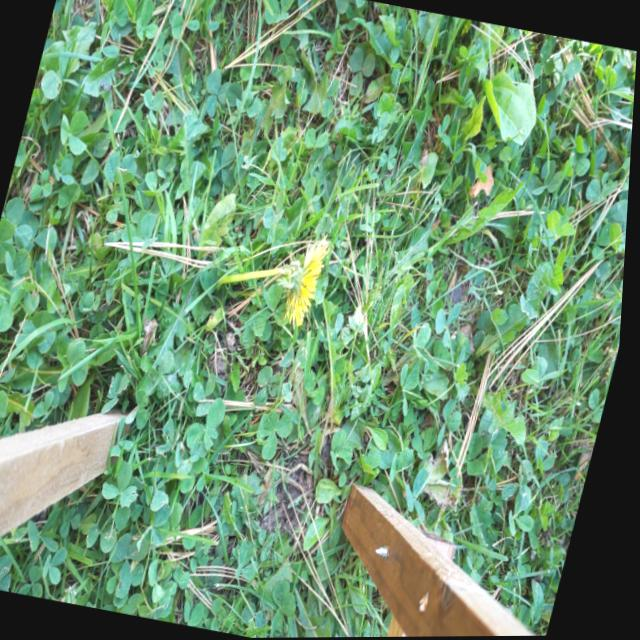base: (211, 272, 237, 306)
